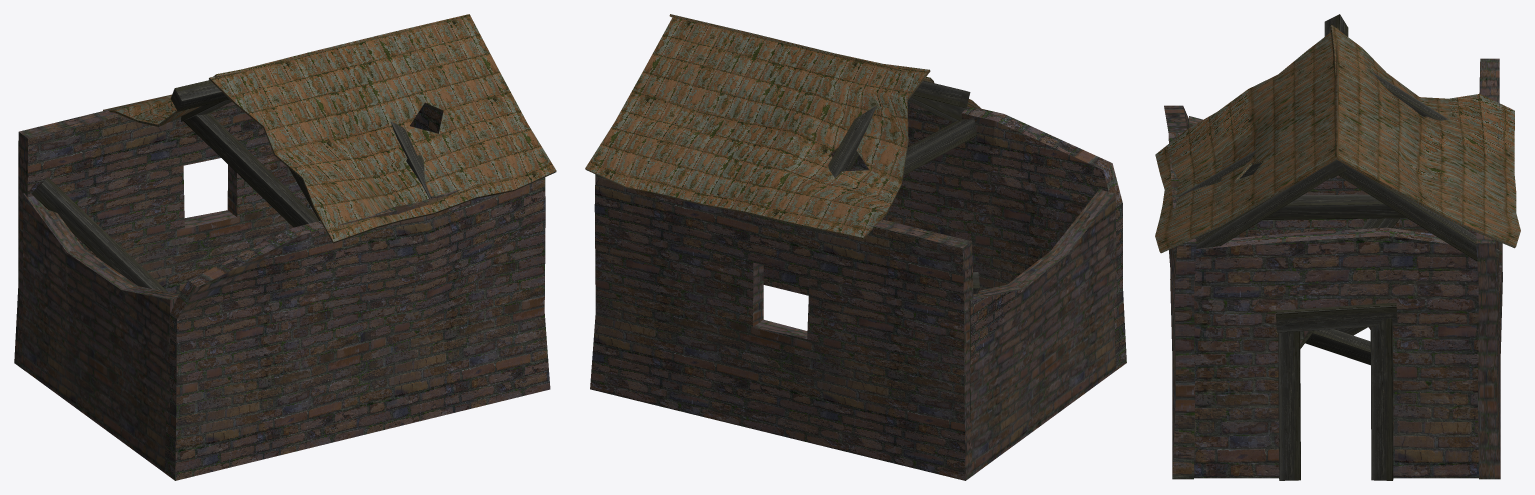
File: house_ruins.glb
3 views of the same model, side by side, from view 1: azimuth 30°, elevation 25°; view 2: azimuth 150°, elevation 25°; view 3: azimuth 270°, elevation 25° (orthographic). The views are drawn at different scales.
Visible parts, largest first — view 1: Cube.001, Cube.004, Cube, Cube.002, plank.001, plank, Cube.005, plank.011, plank.004, Cube.003; view 2: Cube, Cube.005, Cube.001, Cube.002, plank.001, plank.009, plank.011, Cube.004, plank.010; view 3: Cube.003, Cube.005, Cube.004, Cube, Cube.001, plank.013, plank.012, plank.005, Cube.002, plank.014, plank.002, plank.006 (+5 smaller).
Boxes of the visible parts, x1=… form: Cube.001: x1=164, y1=177, x2=550, y2=480; Cube.004: x1=209, y1=14, x2=556, y2=243; Cube: x1=14, y1=102, x2=316, y2=370; Cube.002: x1=21, y1=193, x2=178, y2=472; plank.001: x1=183, y1=113, x2=318, y2=227; plank: x1=31, y1=177, x2=167, y2=291; Cube.005: x1=103, y1=16, x2=467, y2=126; plank.011: x1=170, y1=80, x2=229, y2=111; plank.004: x1=390, y1=121, x2=430, y2=198; Cube.003: x1=410, y1=104, x2=442, y2=133; Cube: x1=590, y1=175, x2=976, y2=480; Cube.005: x1=585, y1=17, x2=930, y2=238; Cube.001: x1=763, y1=101, x2=1126, y2=370; Cube.002: x1=969, y1=189, x2=1116, y2=473; plank.001: x1=866, y1=119, x2=976, y2=175; plank.009: x1=828, y1=105, x2=876, y2=178; plank.011: x1=912, y1=80, x2=970, y2=108; Cube.004: x1=669, y1=14, x2=980, y2=108; plank.010: x1=908, y1=95, x2=966, y2=121; Cube.003: x1=1194, y1=227, x2=1478, y2=478; Cube.005: x1=1330, y1=24, x2=1520, y2=248; Cube.004: x1=1155, y1=27, x2=1338, y2=253; Cube: x1=1476, y1=58, x2=1502, y2=479; Cube.001: x1=1164, y1=105, x2=1196, y2=479; plank.013: x1=1370, y1=318, x2=1393, y2=480; plank.012: x1=1278, y1=331, x2=1300, y2=480; plank.005: x1=1338, y1=163, x2=1499, y2=261; Cube.002: x1=1189, y1=116, x2=1476, y2=237; plank.014: x1=1275, y1=303, x2=1397, y2=332; plank.002: x1=1175, y1=194, x2=1406, y2=219; plank.006: x1=1173, y1=167, x2=1330, y2=259.
Bounding box in the file's own units: 5.16 × 4.31 × 4.22.
3 materials, 3 textured.
